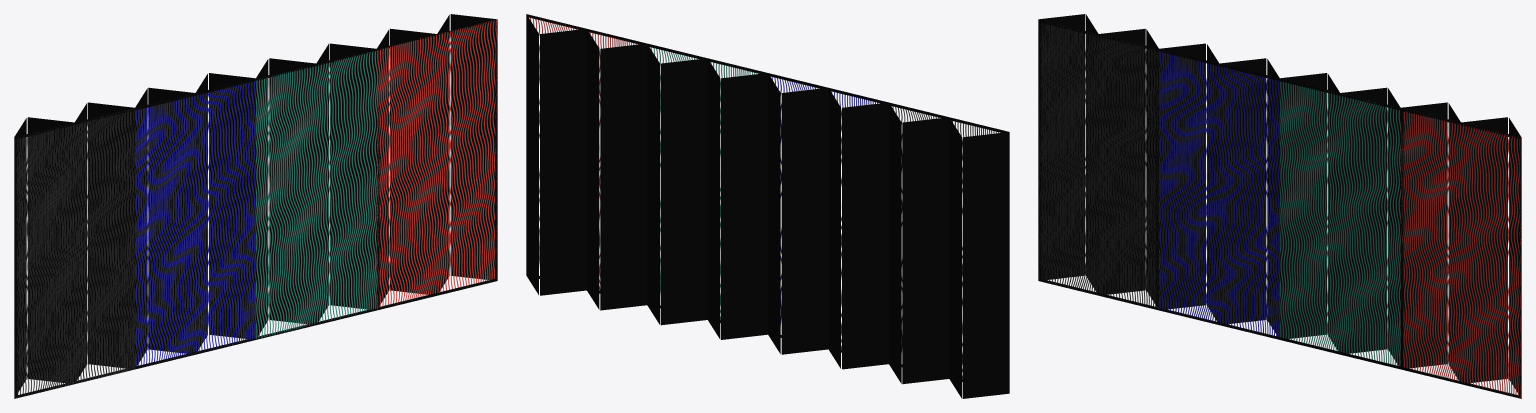
The model's file is windowSmall.glb.
3 renders of one model, left to right at view 1: azimuth 30°, elevation 25°; view 2: azimuth 150°, elevation 25°; view 3: azimuth 330°, elevation 25°, orthographic.
Visible parts, largest first — view 1: fins 11 15 26 A.002, fins 11 15 26 A.004, fins 11 15 26 A.003, fins 11 15 26 A.001, frame; view 2: fins 11 15 26 A.003, fins 11 15 26 A.001, fins 11 15 26 A.002, fins 11 15 26 A.004, frame; view 3: fins 11 15 26 A.004, fins 11 15 26 A.002, fins 11 15 26 A.001, fins 11 15 26 A.003, frame.
Part boxes in pixels (x1,y1,x2,y2): fins 11 15 26 A.002: (256,43,376,338); fins 11 15 26 A.004: (135,73,255,367); fins 11 15 26 A.003: (376,14,497,309); fins 11 15 26 A.001: (14,102,134,398); frame: (14,19,497,398); fins 11 15 26 A.003: (526,14,647,310); fins 11 15 26 A.001: (889,103,1009,398); fins 11 15 26 A.002: (647,44,767,339); fins 11 15 26 A.004: (768,73,888,369); frame: (526,14,1008,381); fins 11 15 26 A.004: (1159,43,1279,339); fins 11 15 26 A.002: (1280,73,1400,366); fins 11 15 26 A.001: (1038,14,1158,309); fins 11 15 26 A.003: (1400,102,1521,396); frame: (1038,19,1521,398).
Size of the model in its own units: 172 by 89 by 10.61.
Materials: 17 (12 with a texture image).
